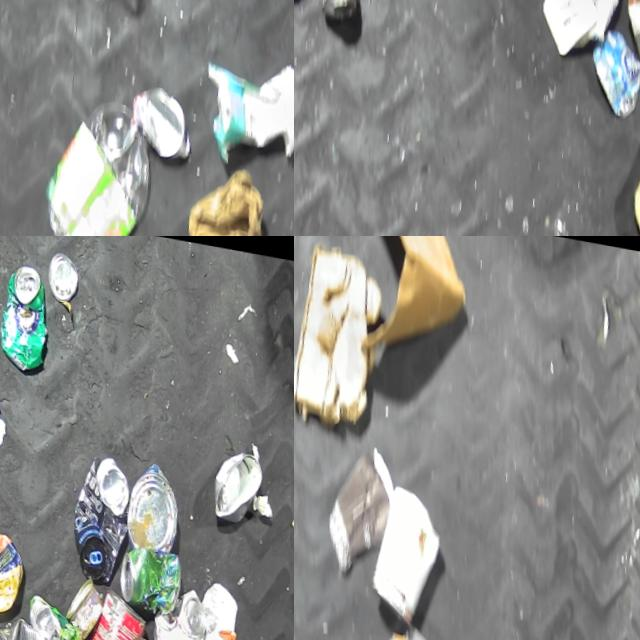can: (53, 447, 137, 585), (116, 72, 201, 169), (111, 456, 182, 552), (0, 257, 57, 372), (579, 9, 640, 116), (103, 539, 178, 616), (55, 581, 149, 640), (200, 439, 264, 523), (133, 578, 205, 640), (50, 572, 100, 640), (12, 591, 79, 640), (0, 523, 24, 618), (42, 248, 83, 302), (304, 0, 370, 30), (615, 0, 640, 64)
non_white_jug: (161, 152, 273, 236)
plastic_bottle: (16, 81, 163, 236)
